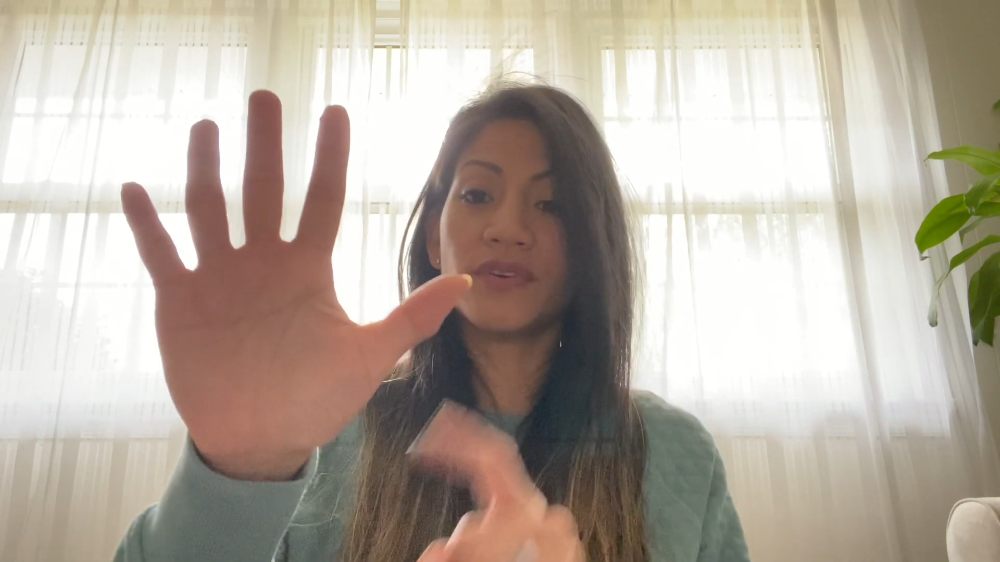hello: (119, 89, 469, 460)
